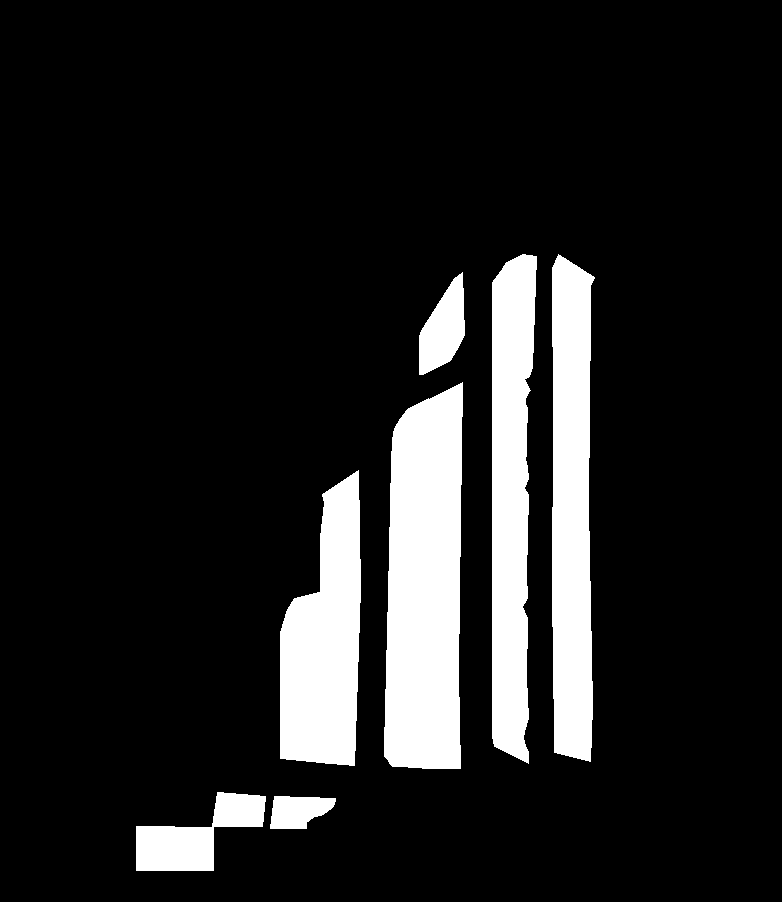parkingspot: (24, 0, 782, 900), (492, 254, 536, 763), (552, 254, 594, 761), (384, 398, 428, 767), (422, 382, 462, 768), (319, 470, 360, 765), (468, 214, 596, 279), (280, 592, 320, 762), (419, 272, 464, 374), (136, 826, 213, 870), (401, 362, 446, 414), (270, 796, 335, 828), (212, 792, 265, 826)
